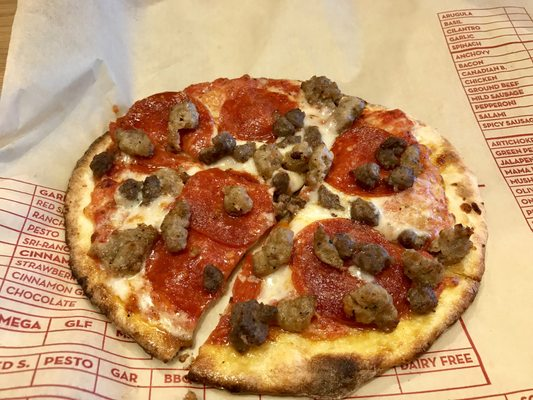curry: (4, 1, 533, 399)
sandwich: (61, 74, 491, 397)
